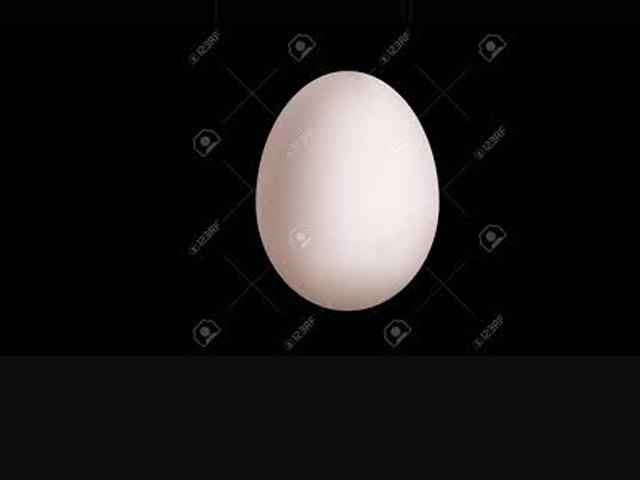egg: (258, 72, 438, 309)
